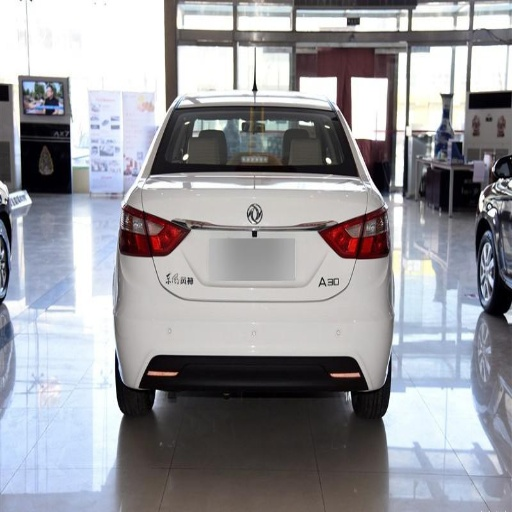back_bumper: (110, 253, 389, 414)
tailgate: (163, 172, 367, 297), (130, 172, 200, 255)
trunk: (148, 174, 255, 299)
